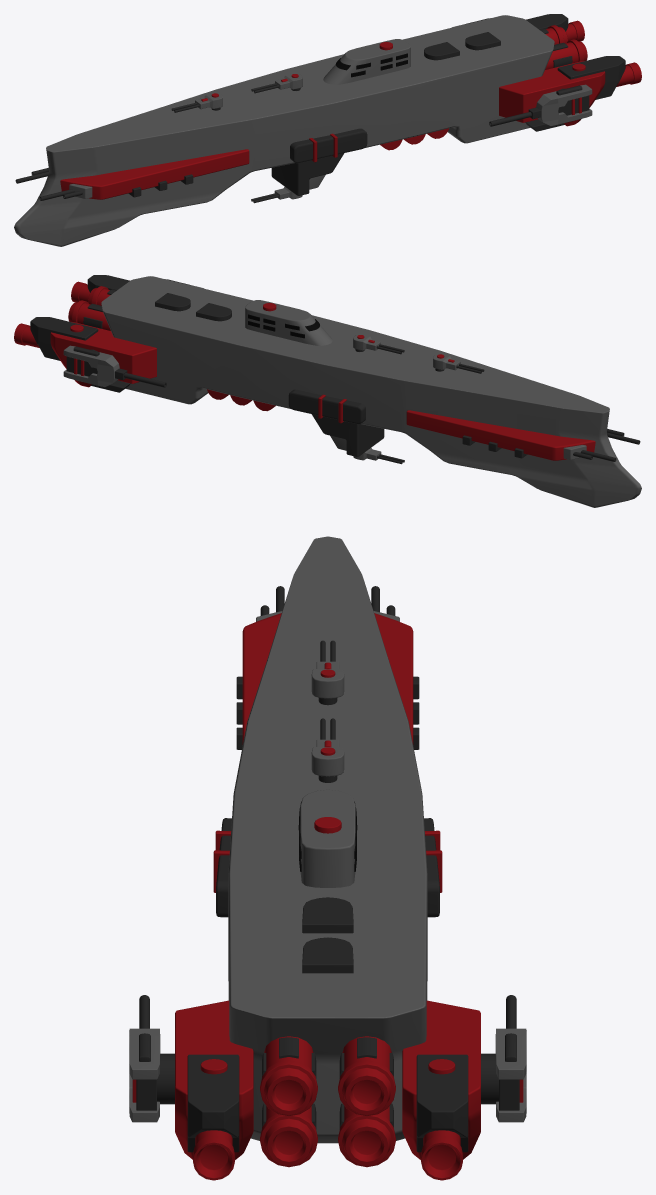
File: destroyer_02.glb
3 renders of one model, top to bottom at view 1: azimuth 30°, elevation 25°; view 2: azimuth 150°, elevation 25°; view 3: azimuth 270°, elevation 25°, orthographic. The views are drawn at different scales.
Visible parts, largest first — view 1: Destroyer_2; view 2: Destroyer_2; view 3: Destroyer_2.
Boxes of the visible parts, x1,y1,x2,y2 form: Destroyer_2: (14,14,641,246); Destroyer_2: (14,275,641,507); Destroyer_2: (129,536,526,1180).
Bounding box in the file's own units: 105 × 21.94 × 30.46.
1 material, 1 textured.
